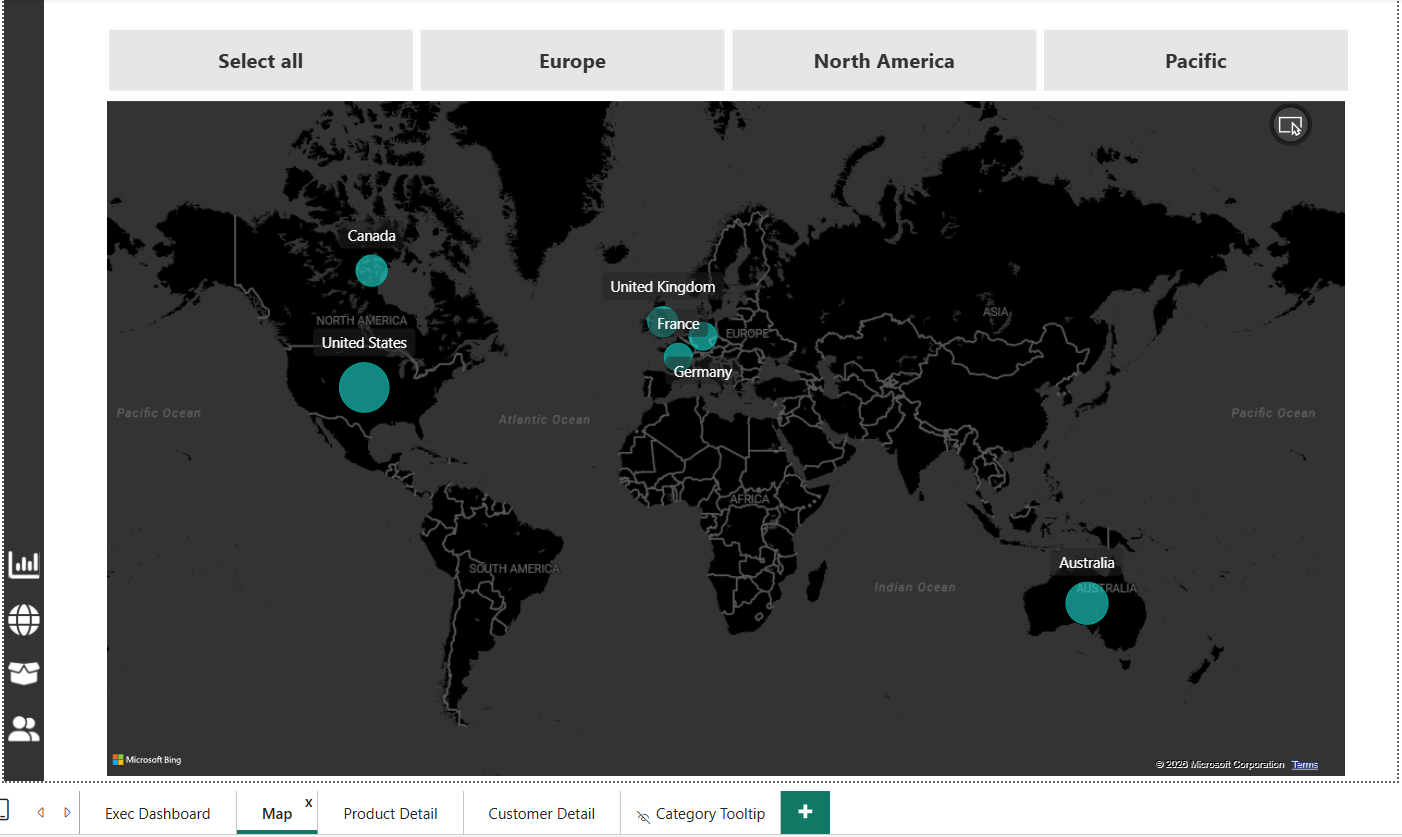

Layout of this report page (visuals, bound fields, positions):
{"tool":"powerbi","page":{"name":"Map","canvas":[1280,720],"ordinal":1},"visuals":[{"type":"shape","box":[0,0,36.8,720.2],"z":0},{"type":"actionButton","box":[0,496.5,36.7,50],"z":0,"group":"g1"},{"type":"map","fields":{"Category":["Territory Lookup.Country"],"Size":["Measure Table.Total Orders"]},"box":[90,87.5,1147.5,632.5],"z":1000},{"type":"actionButton","box":[0,596.6,36.7,50],"z":1000,"group":"g1"},{"type":"slicer","fields":{"Values":["Territory Lookup.Continent"]},"box":[67.5,20,1193.8,75],"z":2000},{"type":"actionButton","box":[0,646.6,36.7,50],"z":2000,"group":"g1"},{"type":"group","id":"g1","title":"Navigation Buttons","box":[0,496.5,36.7,200.1],"z":3000},{"type":"actionButton","box":[0,546.6,36.7,50],"z":3000,"group":"g1"}]}

Visuals, with their boxes in screenshot pixels (x1, y1, x2, y2):
shape: [0, 0, 40, 774]
actionButton: [0, 533, 40, 587]
map - Territory Lookup.Country x Measure Table.Total Orders: [97, 91, 1337, 774]
actionButton: [0, 641, 40, 695]
slicer - Territory Lookup.Continent: [73, 18, 1362, 99]
actionButton: [0, 695, 40, 749]
"Navigation Buttons" group: [0, 533, 40, 749]
actionButton: [0, 587, 40, 641]
